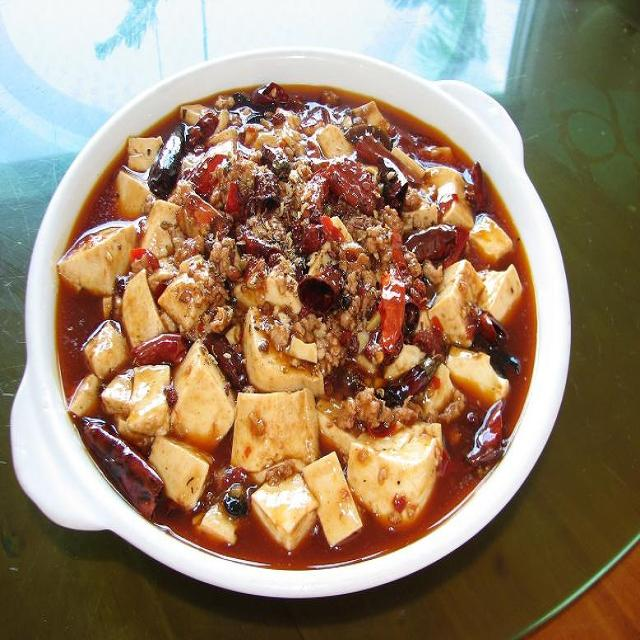豆腐料理: (0, 32, 577, 609)
